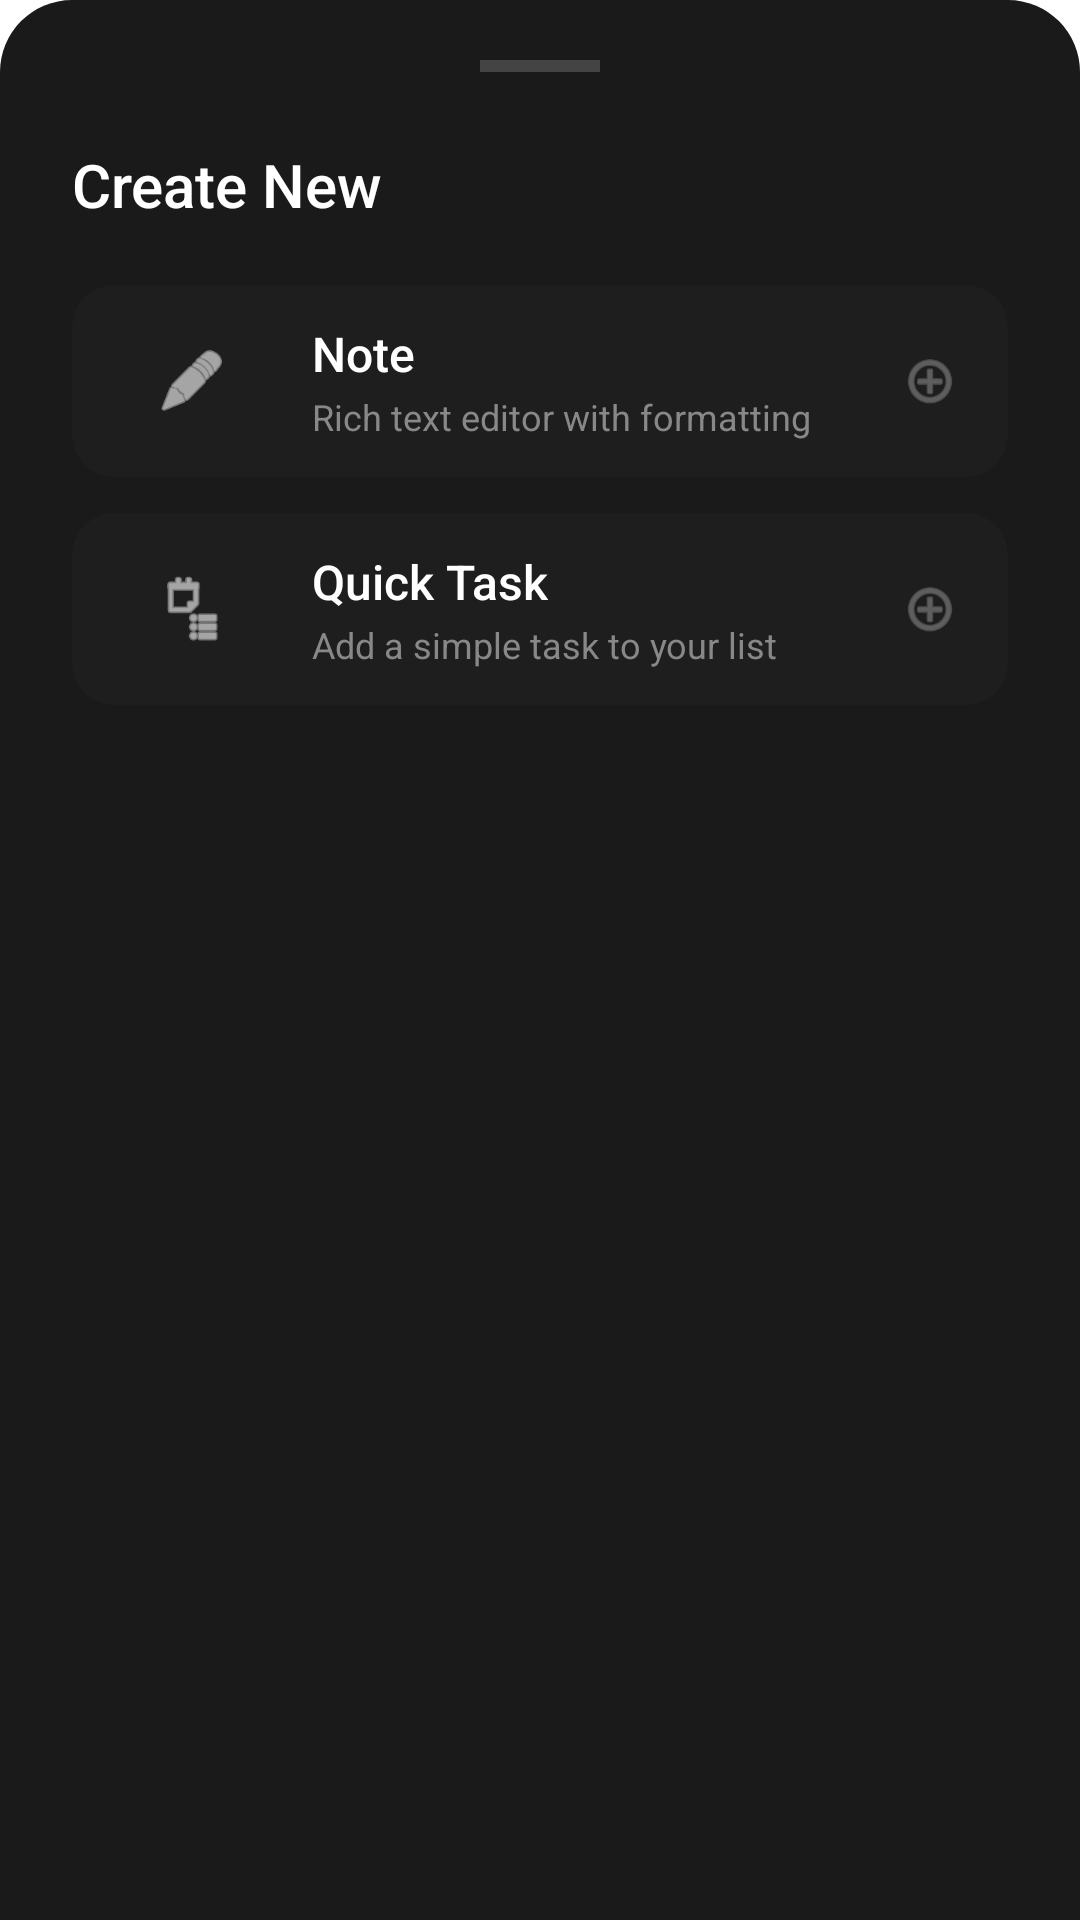

Locate icon controls on the screen. Image size 1080 x 1920, boxes as (x1, y1, x2, y2).
agenda: (167, 577, 218, 641)
